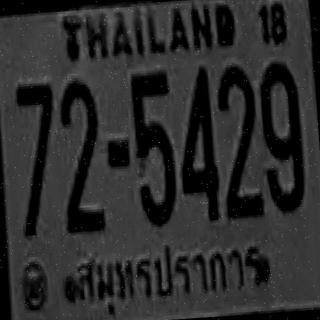N02: (56, 78, 104, 232), (215, 62, 262, 216)
N04: (173, 64, 219, 220)
N05: (128, 69, 177, 223)
N07: (13, 80, 61, 236)
N09: (257, 59, 305, 210)
P57: (68, 230, 270, 320)
